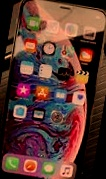iphone: (7, 1, 96, 179)
